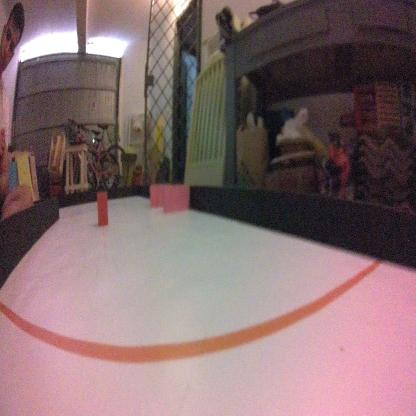magenta: (162, 184, 189, 215), (148, 182, 172, 206)
red: (96, 189, 109, 227)
